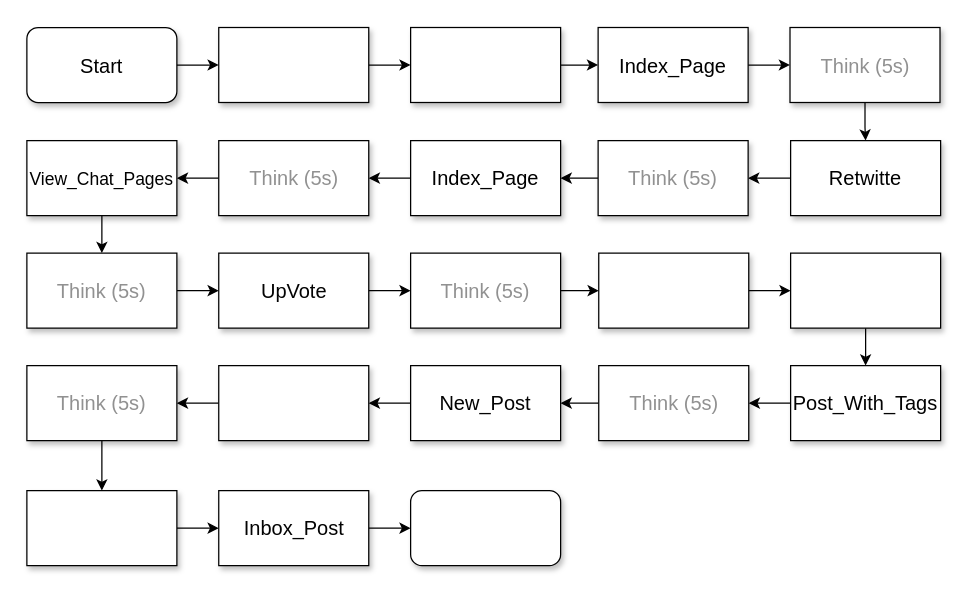
Image size: 970x596. Some labels were removed from this diagram. The shapes that lost their labels are listed below. From the top down, each one's centre as x and y in pixels, then its label:
At point 294,66: "Welcome".
At point 486,66: "Login".
At point 674,292: "Profile".
At point 866,292: "To_Me".
At point 294,404: "DownVote".
At point 102,529: "Comment".
At point 486,529: "End".
